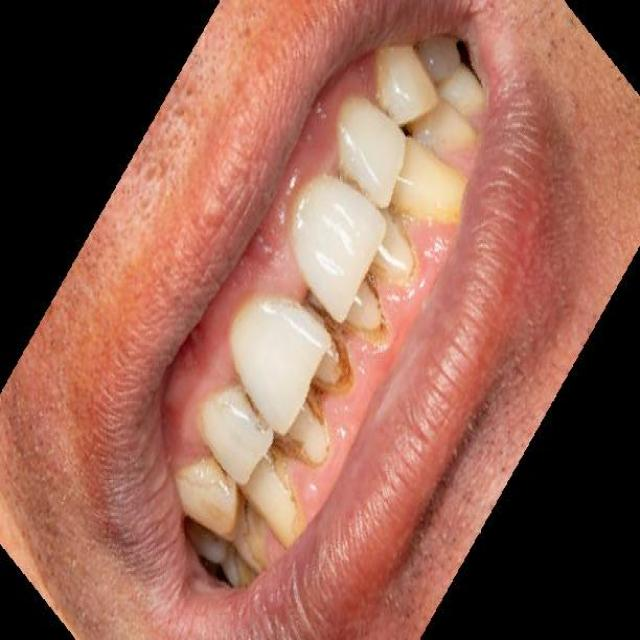calculus: (235, 454, 318, 540), (323, 252, 388, 353), (295, 314, 353, 406)
